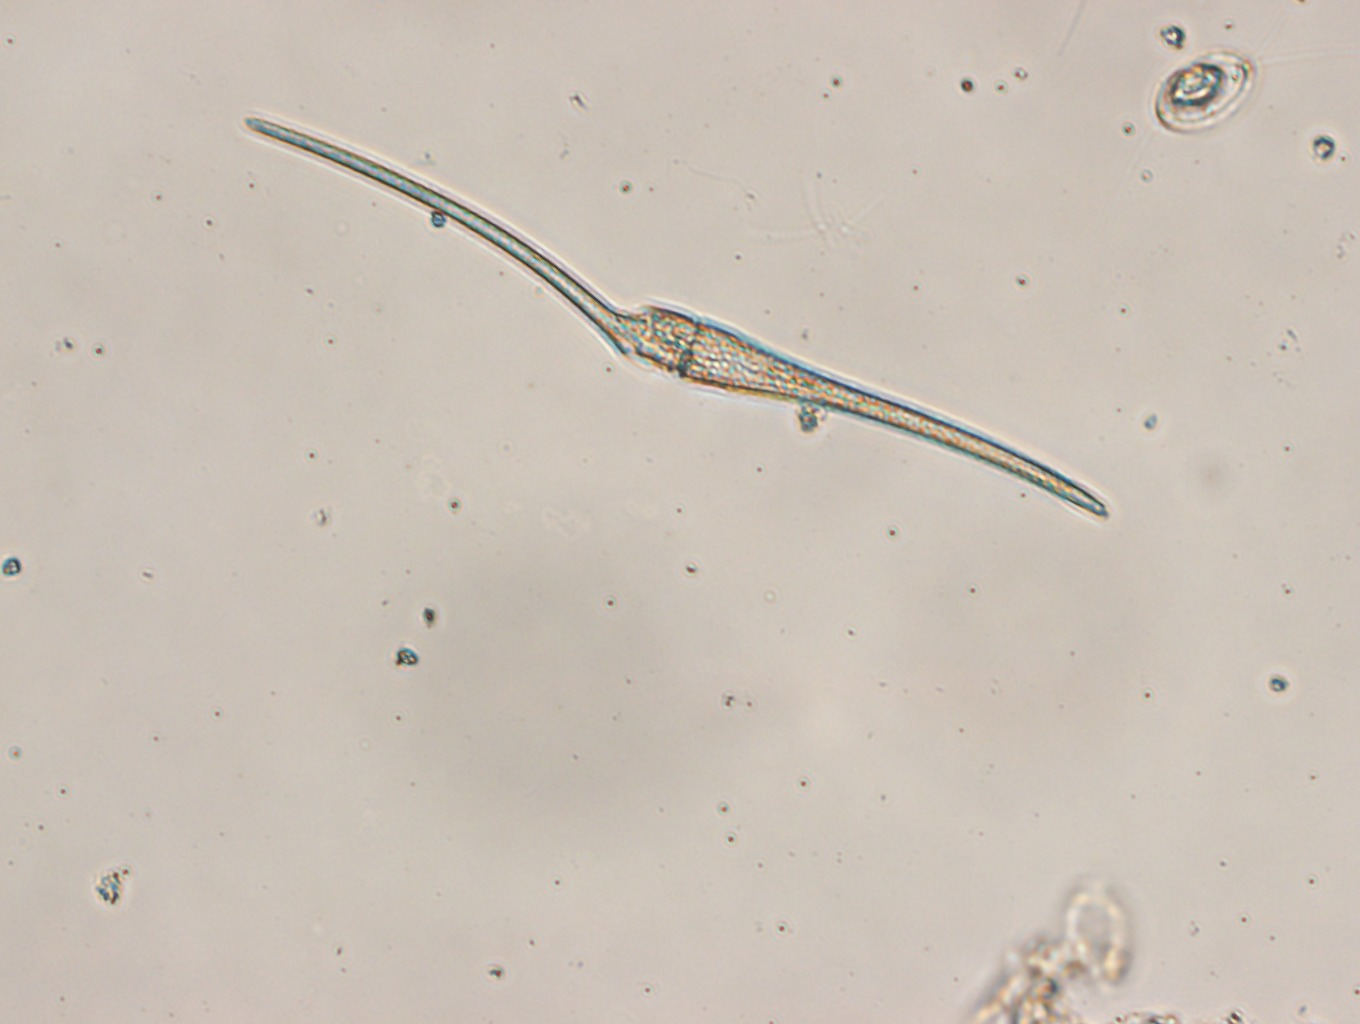ceratium fusus: (240, 115, 1112, 520)
